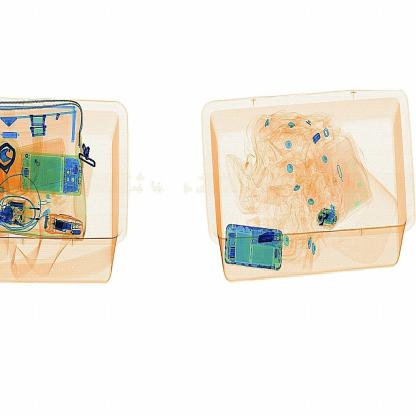knife: (253, 225, 284, 255)
